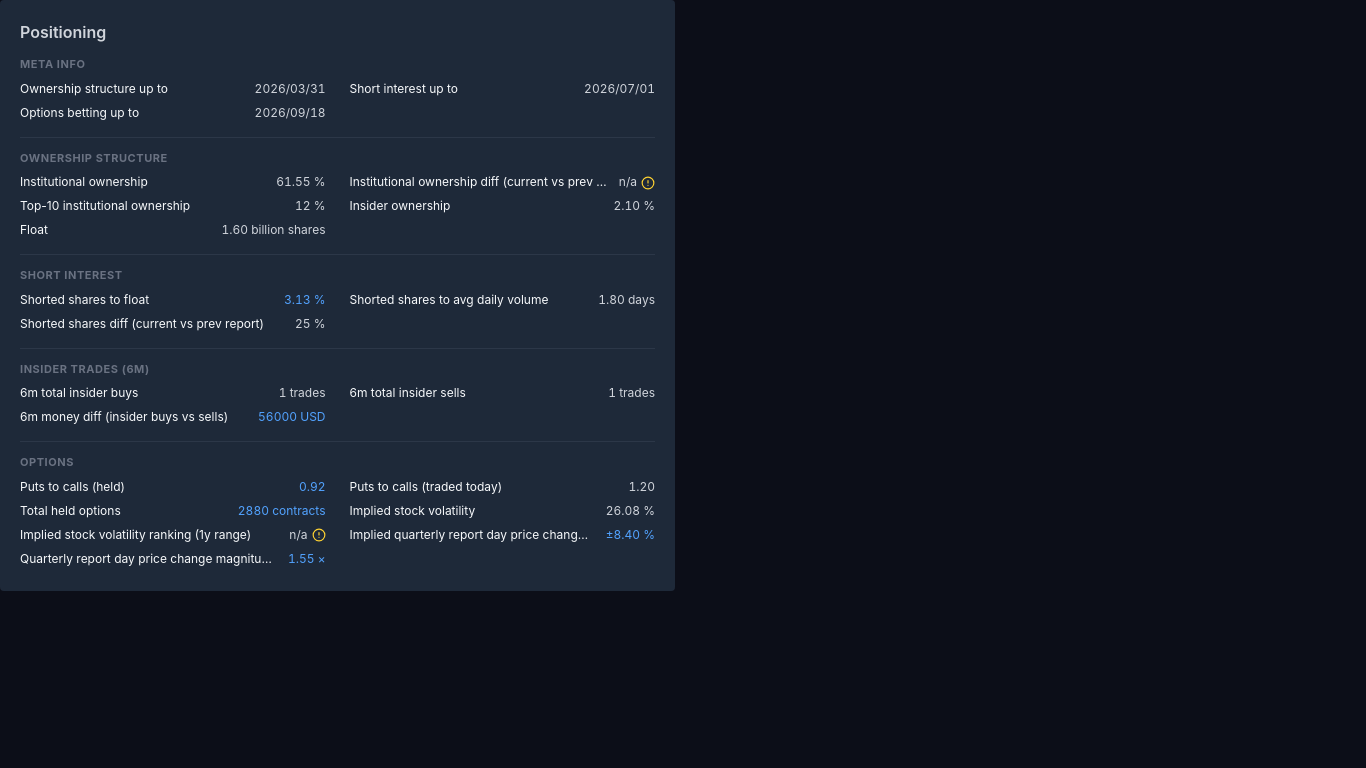
Test: AltDimensions — positioning v2 › opens the money-diff receipt with named ingredients and a unit result
Click the button with test id "alt-metric-formula-net_value_usd": (292, 417) [258,409,326,425]
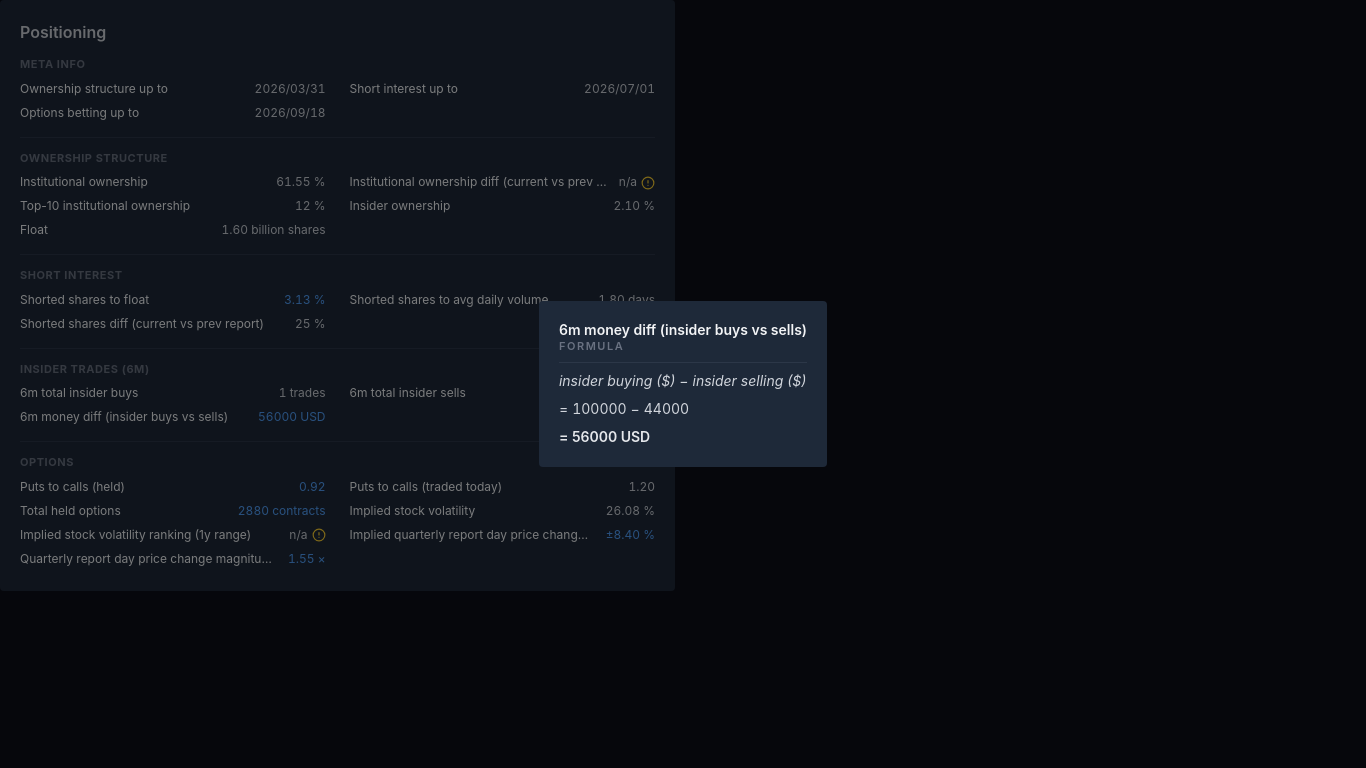
Expected: the text "insider buying ($)" is shown, [559,372,675,389]
Expected: the text "insider selling ($)" is shown, [692,372,806,389]
Expected: the text "= 56000 USD" is shown, [559,428,650,445]
